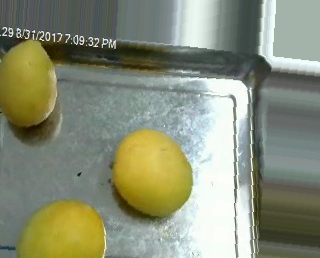Mango: (110, 125, 194, 219), (0, 37, 64, 132), (14, 196, 105, 257)
